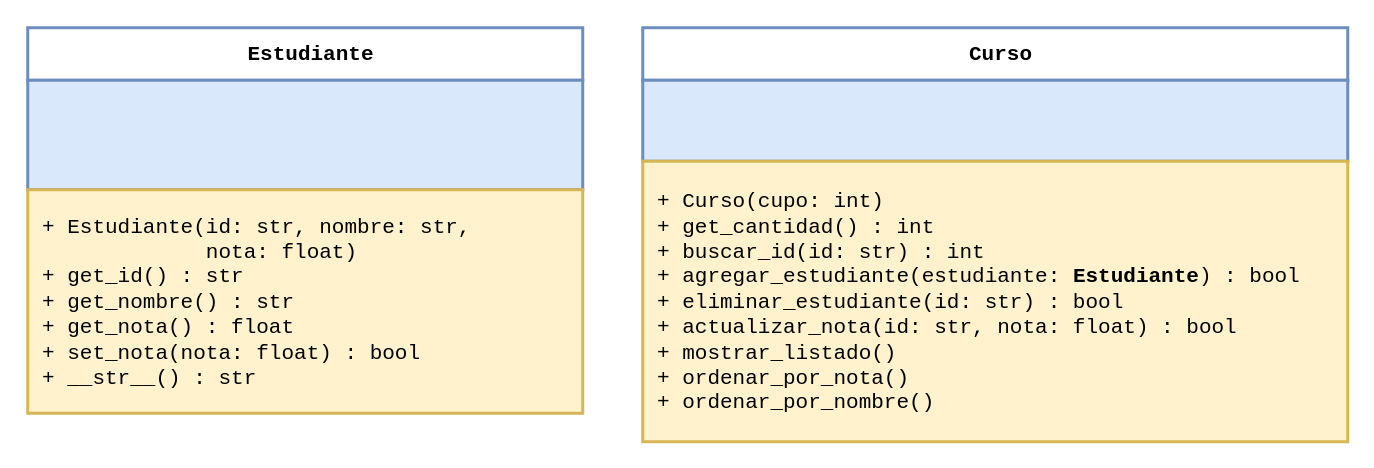
This 1374x468 diagram has some shape labels left out. The shapes that lost their labels are listed below. From the top down, each one's centre as x and y in pixels, then its label:
point (305, 134): - id : str - nombre : str - nota : float
point (994, 120): - estudiantes : Estudiante [*] - cantidad : int
